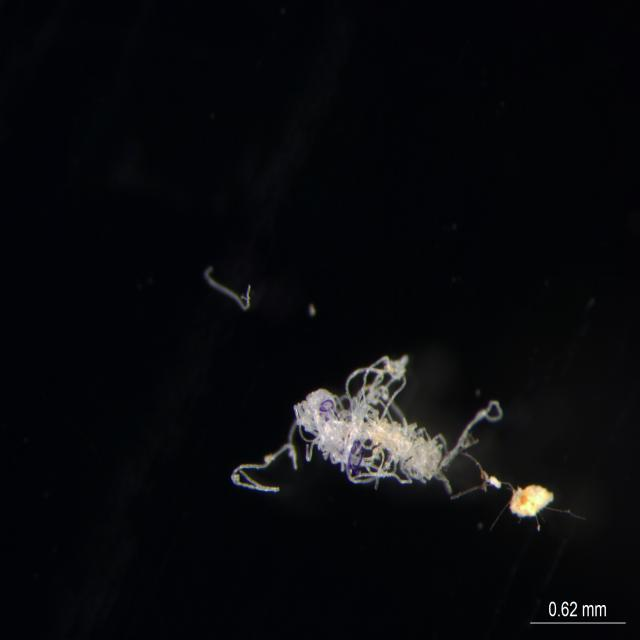fibers: (198, 258, 260, 312)
fragments: (231, 356, 503, 494)
